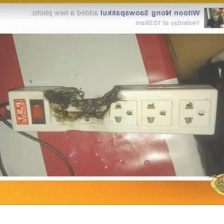three_eye_plug: (4, 81, 222, 137)
